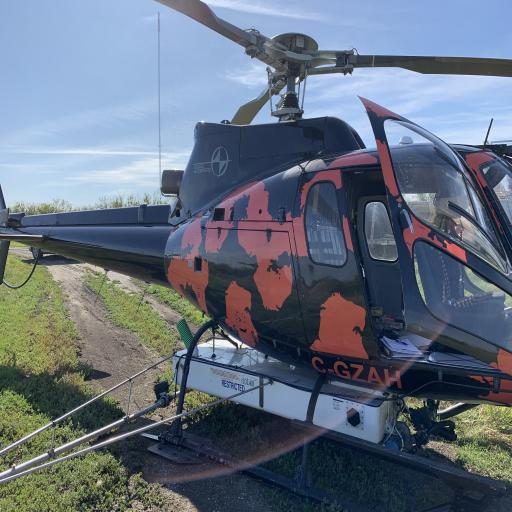helicopter: (1, 11, 509, 440)
